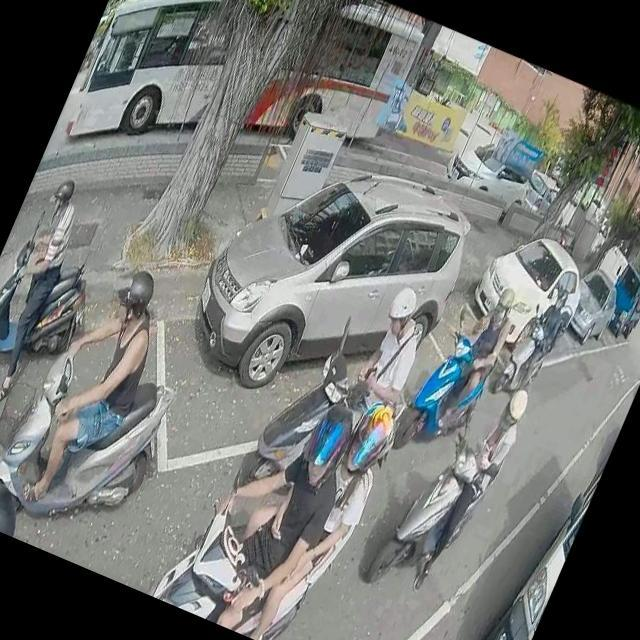person: (204, 363, 408, 640), (168, 373, 369, 640), (2, 243, 185, 528), (403, 368, 535, 603), (0, 178, 97, 399), (420, 266, 525, 438), (342, 277, 441, 428), (512, 281, 580, 392), (0, 465, 34, 535)
